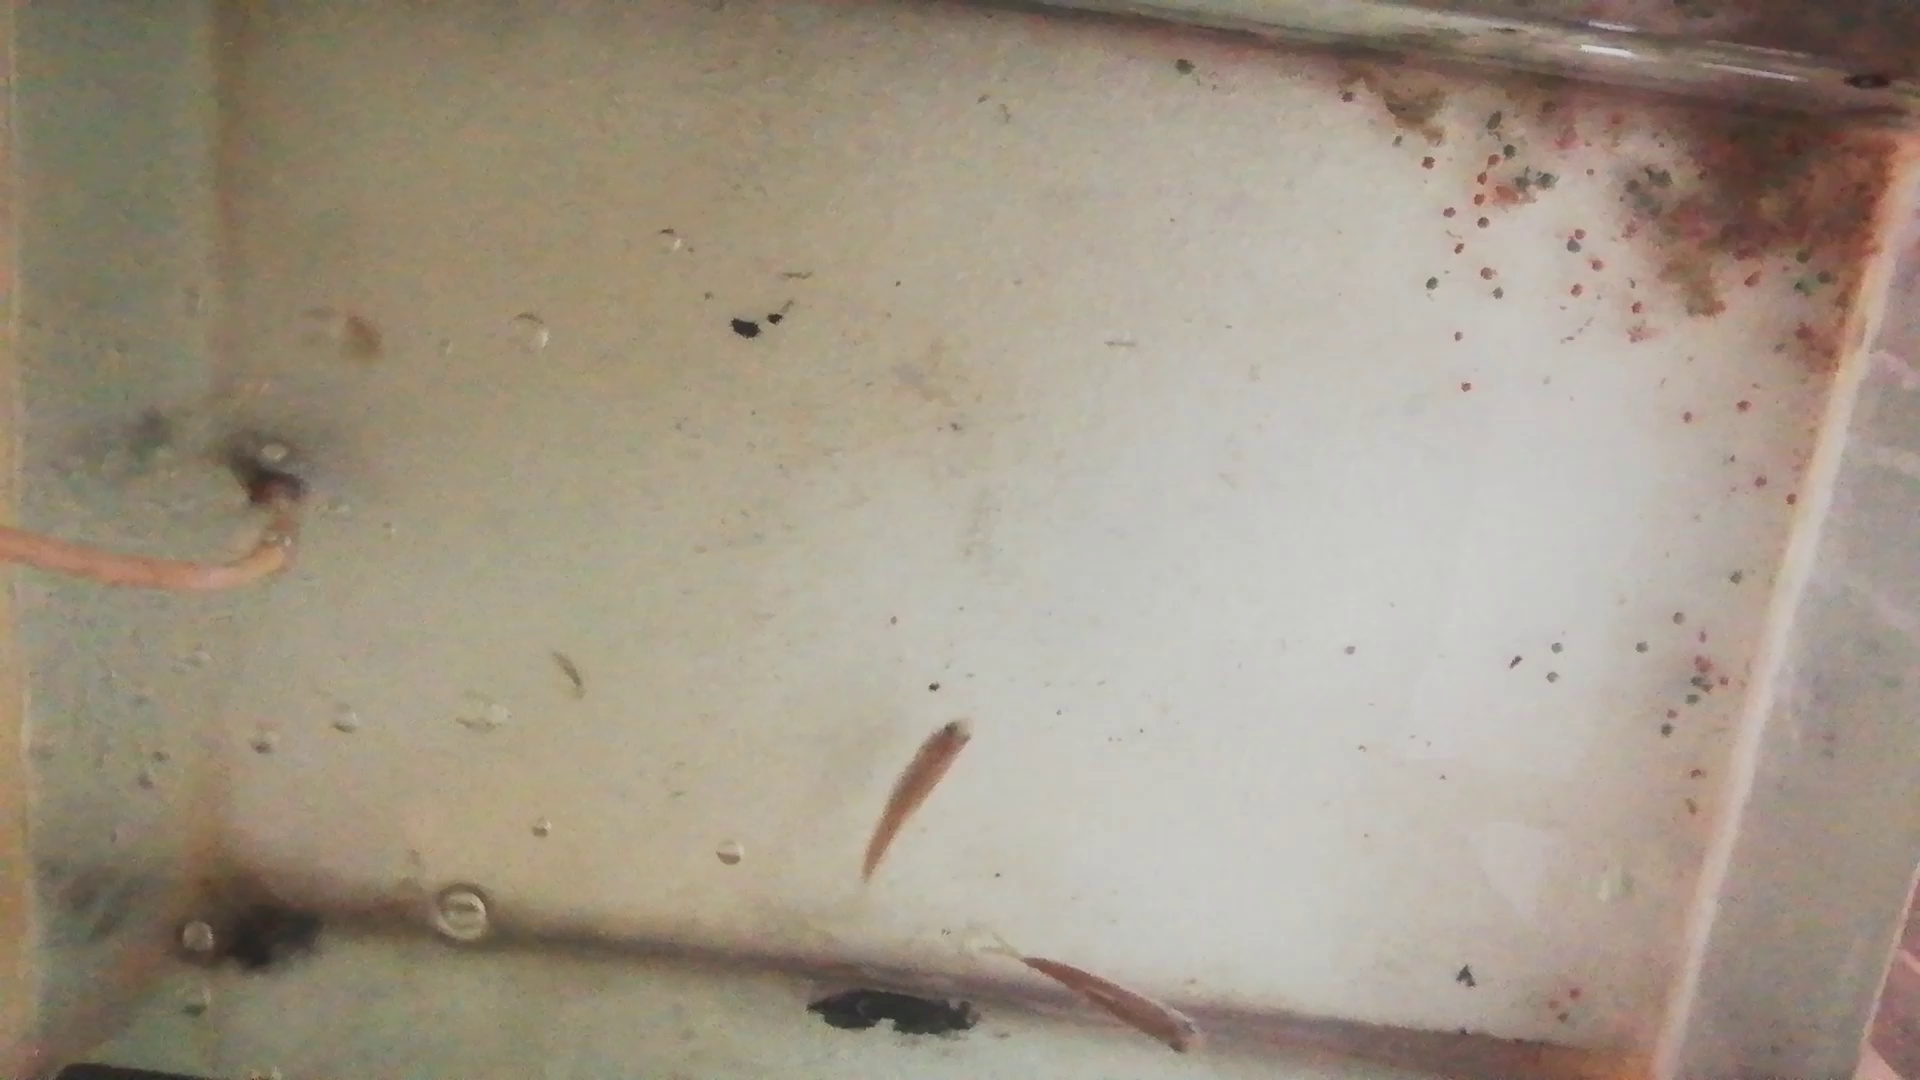fish: (858, 719, 981, 878), (1022, 956, 1203, 1055)
